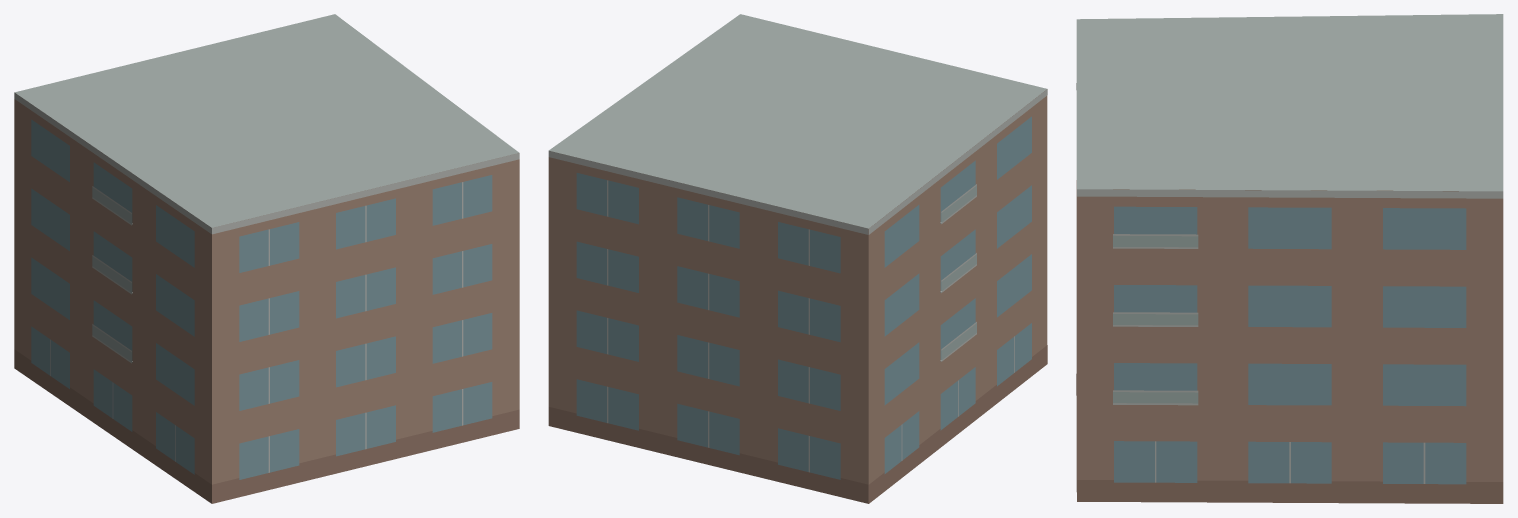
File: survey-upis-32909081.glb
The picture shows the model from 3 angles, left to right: view 1: azimuth 30°, elevation 25°; view 2: azimuth 150°, elevation 25°; view 3: azimuth 270°, elevation 25°; orthographic projection. The views are drawn at different scales.
Parts seen in each view (by area): view 1: survey-upis-32909081.tmp; view 2: survey-upis-32909081.tmp; view 3: survey-upis-32909081.tmp.
Part boxes in pixels (x1,y1,x2,y2): survey-upis-32909081.tmp: (14,14,519,503); survey-upis-32909081.tmp: (548,14,1047,503); survey-upis-32909081.tmp: (1076,14,1503,503).
Bounding box in the file's own units: 12.67 × 10.4 × 12.89.
